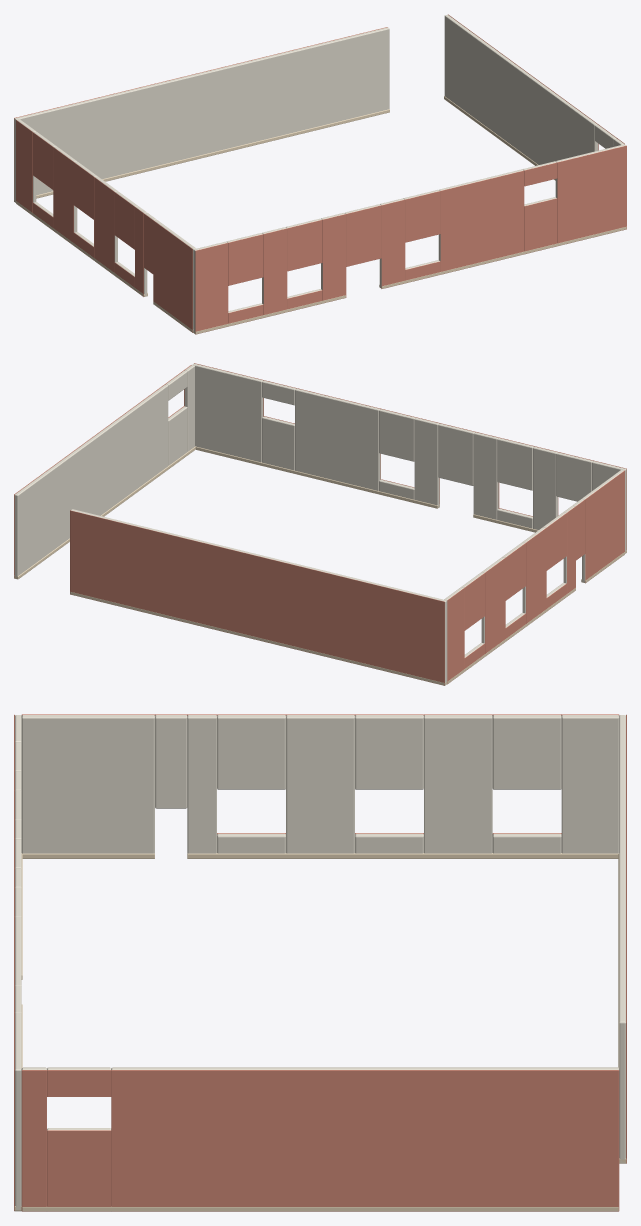
Rendered from office_shell.glb.
The picture shows the model from 3 angles, top to bottom: view 1: azimuth 30°, elevation 25°; view 2: azimuth 150°, elevation 25°; view 3: azimuth 270°, elevation 25°; orthographic projection. The views are drawn at different scales.
Parts seen in each view (by area): view 1: office_shell_outside, office_shell_inside, office_shell_trim; view 2: office_shell_inside, office_shell_outside, office_shell_trim; view 3: office_shell_outside, office_shell_inside, office_shell_trim.
Part boxes in pixels (box(x1,y1,x2,y2)): office_shell_outside: box(14, 14, 626, 334); office_shell_inside: box(14, 14, 625, 331); office_shell_trim: box(14, 96, 626, 334); office_shell_inside: box(14, 363, 626, 683); office_shell_outside: box(14, 363, 626, 685); office_shell_trim: box(14, 446, 626, 685); office_shell_outside: box(14, 714, 626, 1211); office_shell_inside: box(15, 715, 625, 1210); office_shell_trim: box(14, 853, 626, 1211).
Size of the model in its own units: 36.68 by 6.8 by 26.68.
